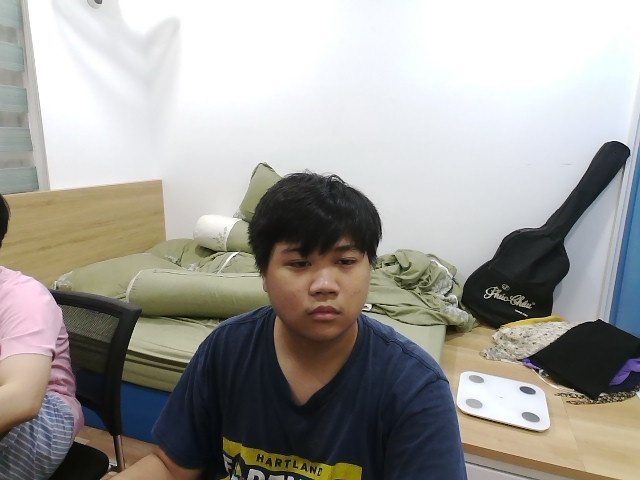face: (249, 170, 384, 345)
